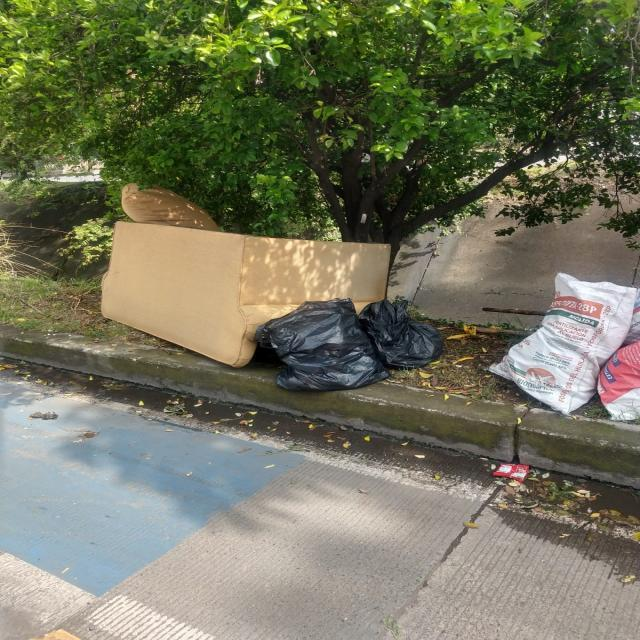high trash: (101, 185, 441, 389), (490, 272, 640, 419)
less trash: (492, 464, 530, 482)
